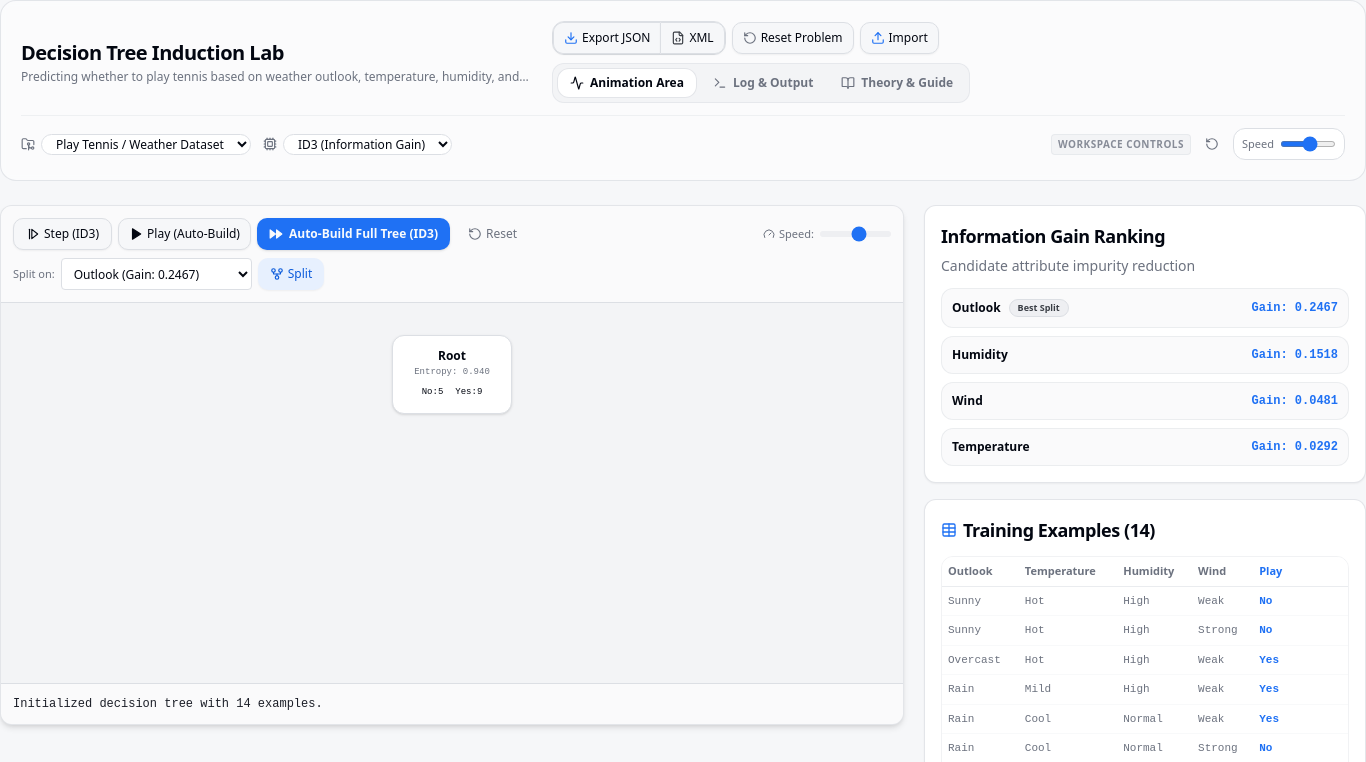
Test: P1-1 Decision Trees & Neural Networks Algorithmic & UX Fixes › 2. Decision Trees Controls, Confetti & Tree Rendering › renders tree layout with flex-nowrap min-w-max to prevent Rain subtree disconnection
The width and height of the screenshot is (1366, 762).
Click the button "Auto-Build Full Tree (ID3)": click(354, 234) [257,218,450,250]
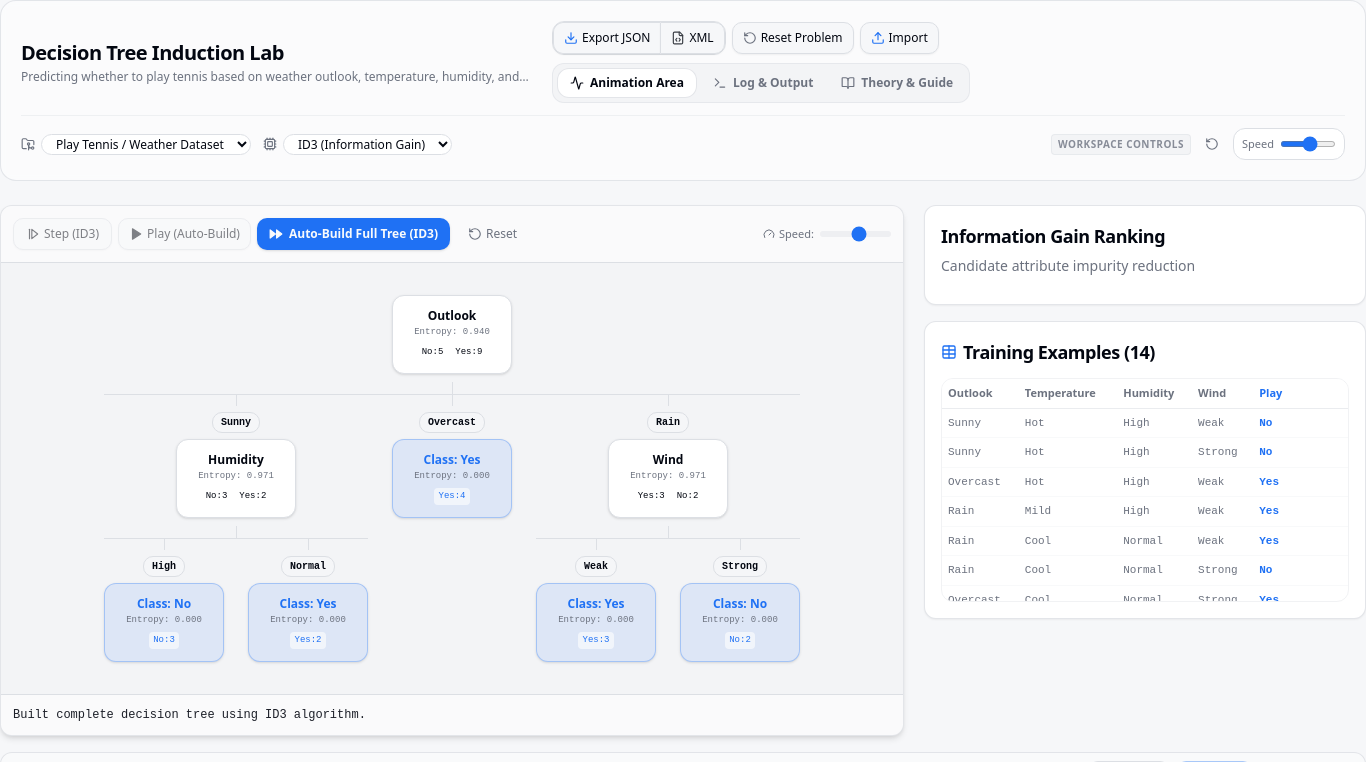
Check: the element with class "flex-nowrap" that starts with "Sunny" is shown, box [104,394,800,662]
Check: the text "Rain" is shown, box [647,412,689,433]
